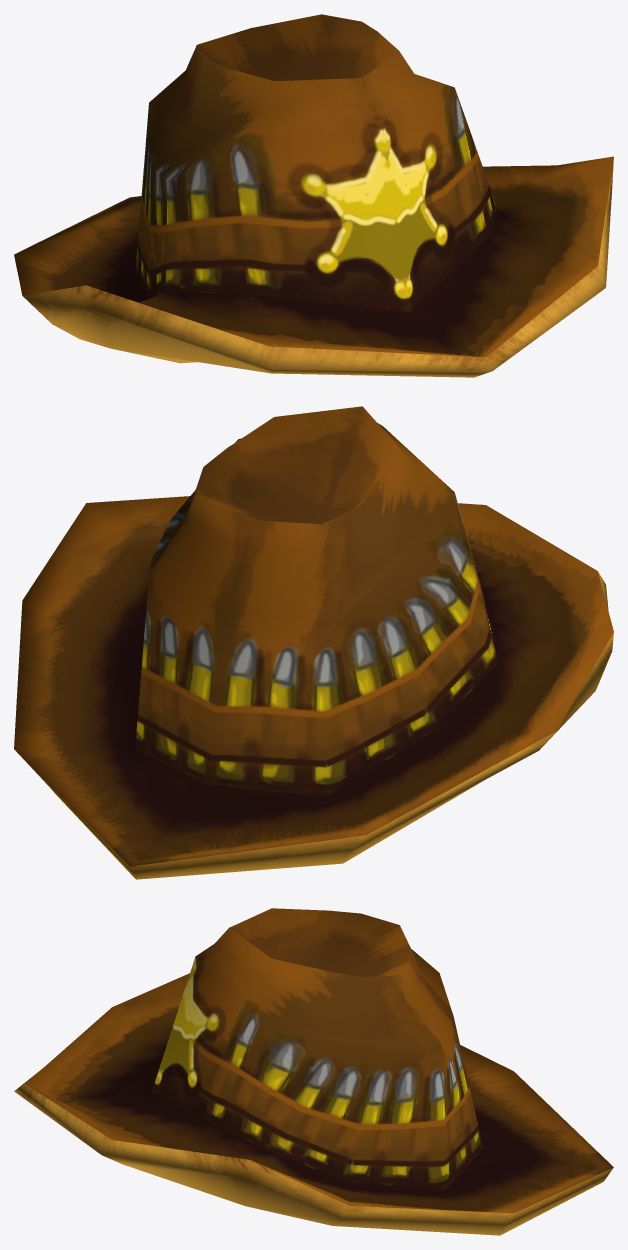
File: penguin_cowboy_hat.dae
3 renders of one model, top to bottom at view 1: azimuth 30°, elevation 25°; view 2: azimuth 150°, elevation 25°; view 3: azimuth 270°, elevation 25°, orthographic. The views are drawn at different scales.
Visible parts, largest first — view 1: cowboy_hat_geo; view 2: cowboy_hat_geo; view 3: cowboy_hat_geo.
Part boxes in pixels (left/top/right/bottom): cowboy_hat_geo: left=14, top=14, right=613, bottom=377; cowboy_hat_geo: left=14, top=406, right=613, bottom=879; cowboy_hat_geo: left=14, top=908, right=613, bottom=1235.
Size of the model in its own units: 14.5 by 17.05 by 8.32.
